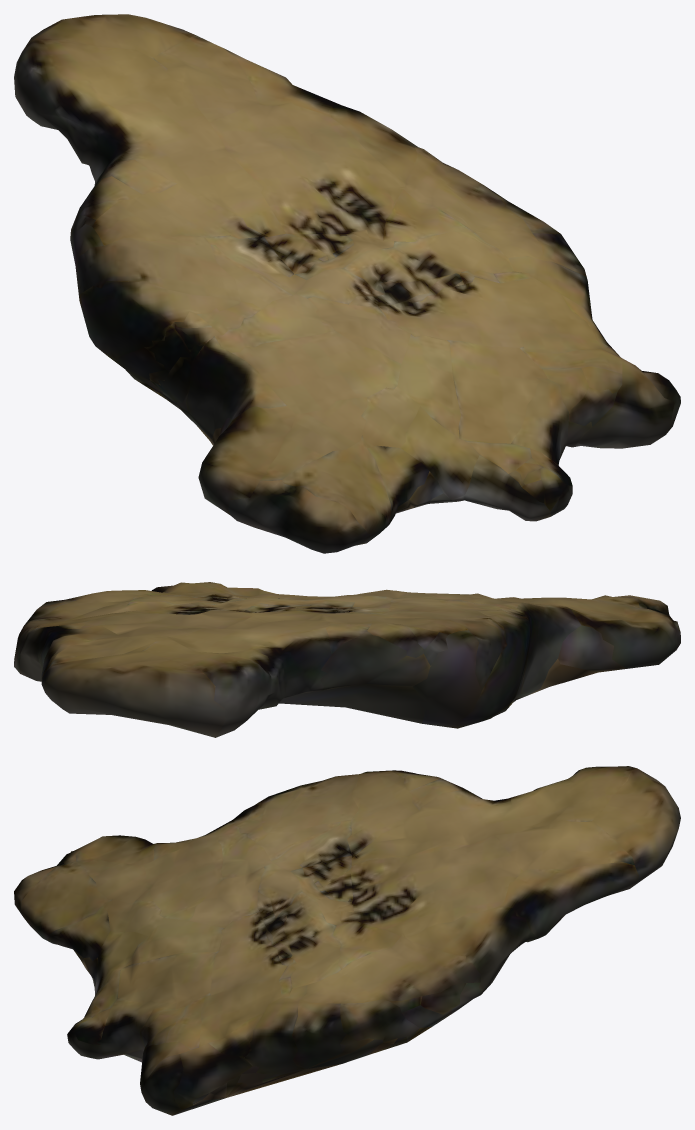
The model's file is hall.glb.
The picture shows the model from 3 angles, top to bottom: view 1: azimuth 30°, elevation 25°; view 2: azimuth 150°, elevation 25°; view 3: azimuth 270°, elevation 25°; orthographic projection. The views are drawn at different scales.
Bounding box in the file's own units: 0.5155 × 0.2658 × 0.7271.
Materials: 1 (1 with a texture image).
